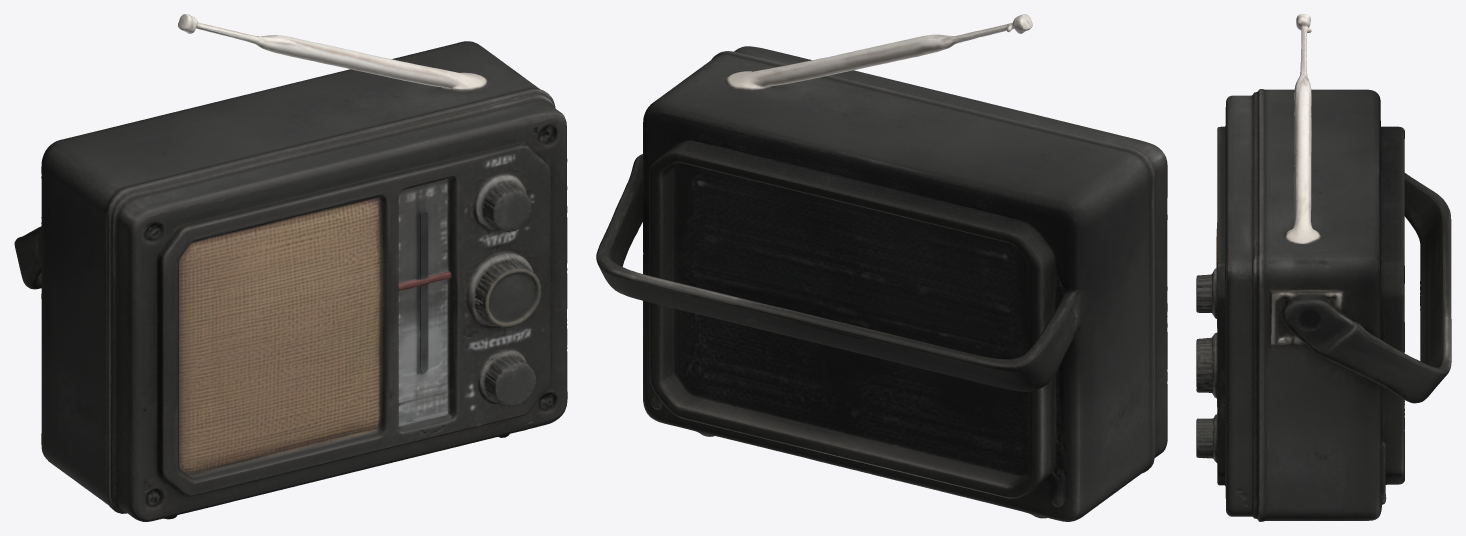
Rendered from source.glb.
3 views of the same model, side by side, from view 1: azimuth 30°, elevation 25°; view 2: azimuth 150°, elevation 25°; view 3: azimuth 270°, elevation 25° (orthographic). The views are drawn at different scales.
Parts seen in each view (by area): view 1: world; view 2: world; view 3: world.
Part boxes in pixels (left/top/right/bottom): world: left=14, top=14, right=567, bottom=521; world: left=596, top=14, right=1167, bottom=521; world: left=1196, top=14, right=1451, bottom=521.
Size of the model in its own units: 0.23 by 0.2182 by 0.1324.
Materials: 1 (1 with a texture image).
